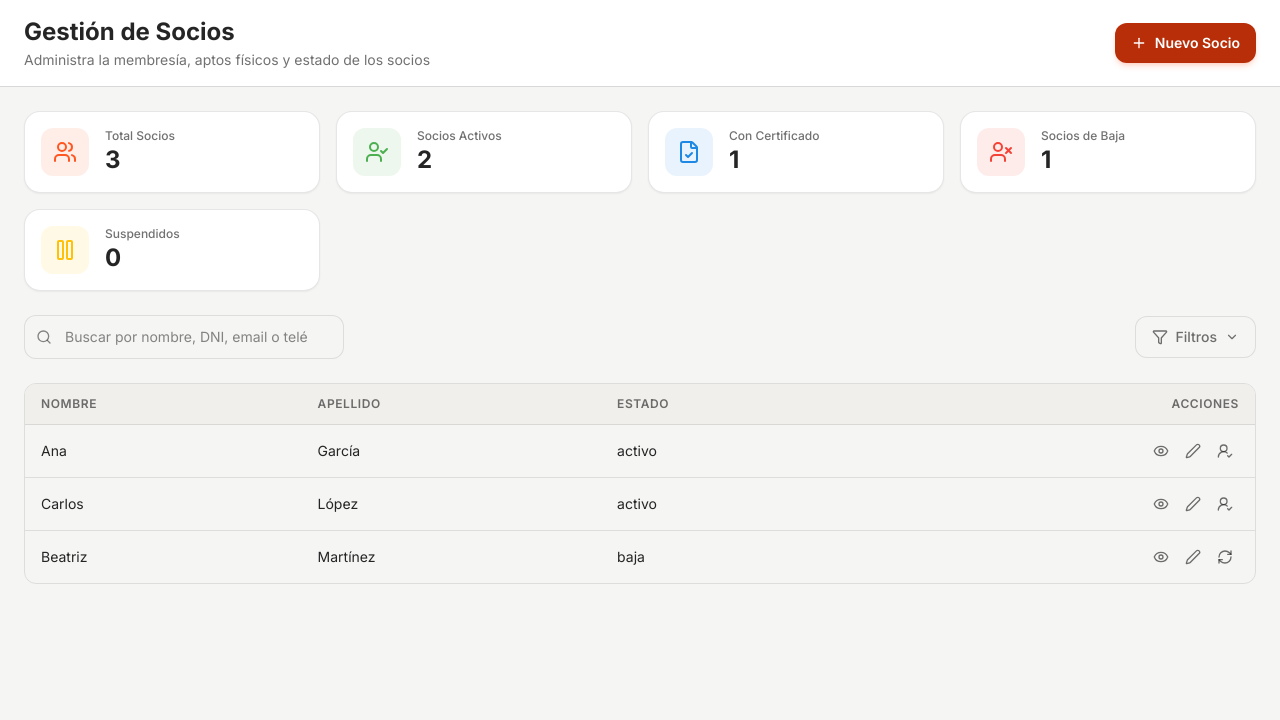
Scenario: AdminSociosPage › shows baja confirmation modal when delete button is clicked
Expected: the text "Ana" is shown, x1=25 y1=424 x2=302 y2=478
// Click the delete (baja) button for the first active socio
Click the button titled "Dar de baja socio" at (1225, 451), box x1=1211 y1=437 x2=1239 y2=465
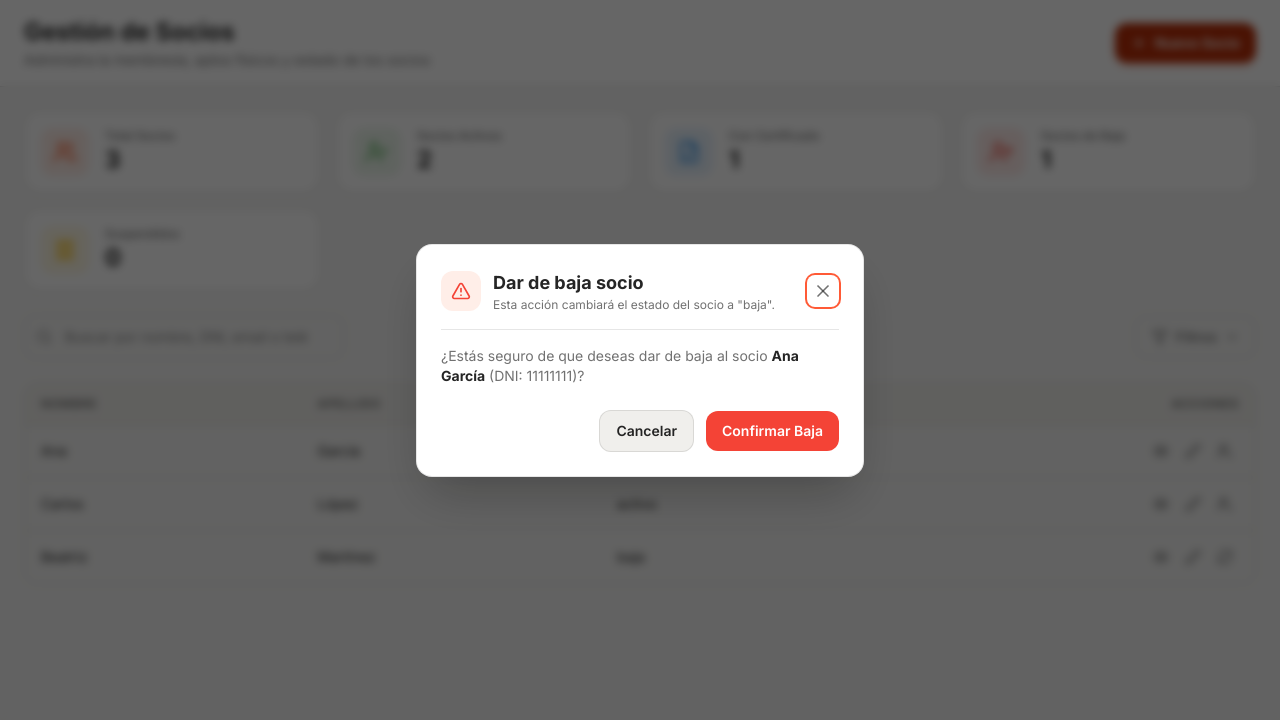
Expected: the heading "Dar de baja socio" is shown, x1=493 y1=272 x2=644 y2=292
